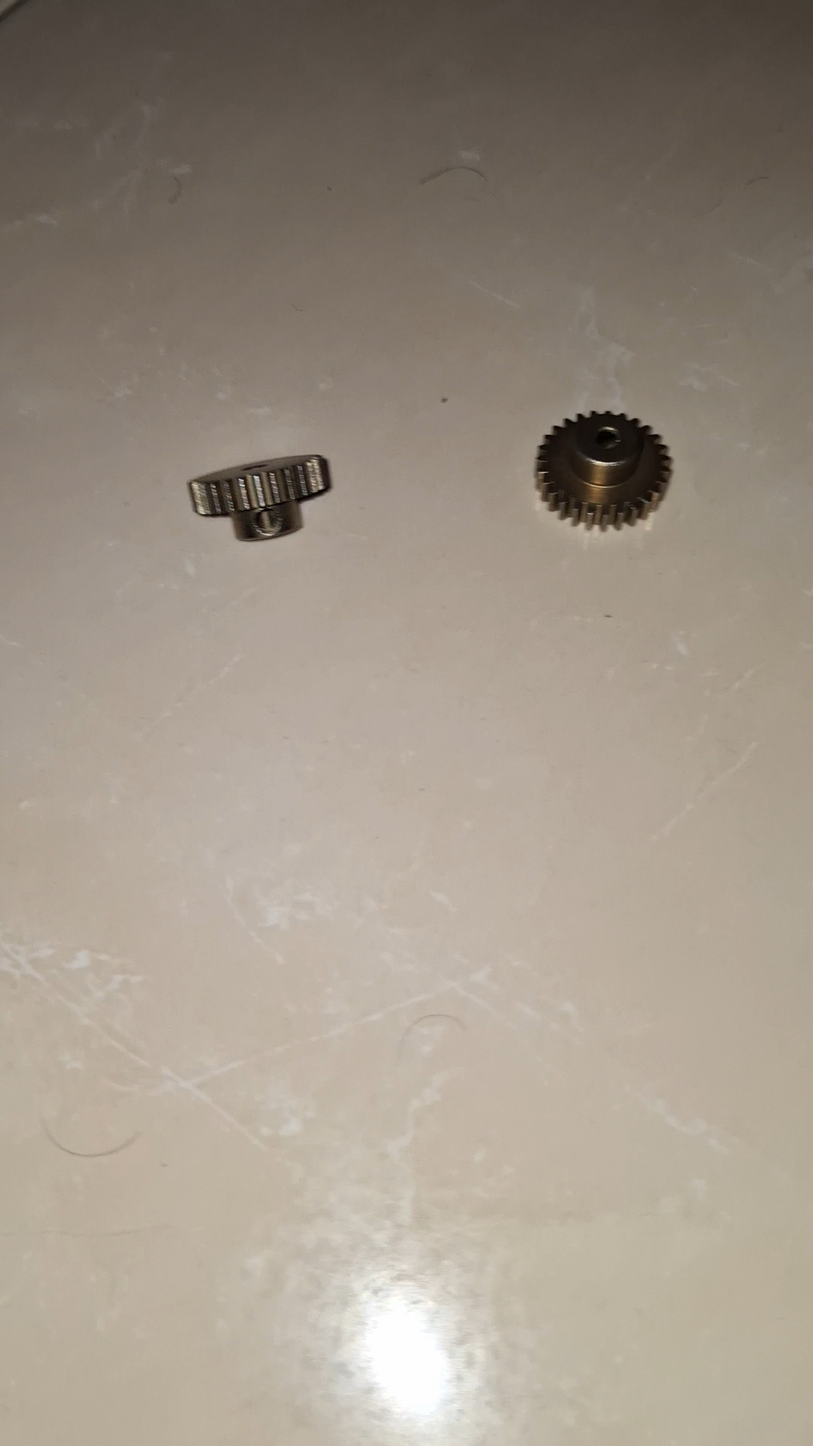spur gear: (537, 412, 671, 528), (188, 455, 330, 540)
